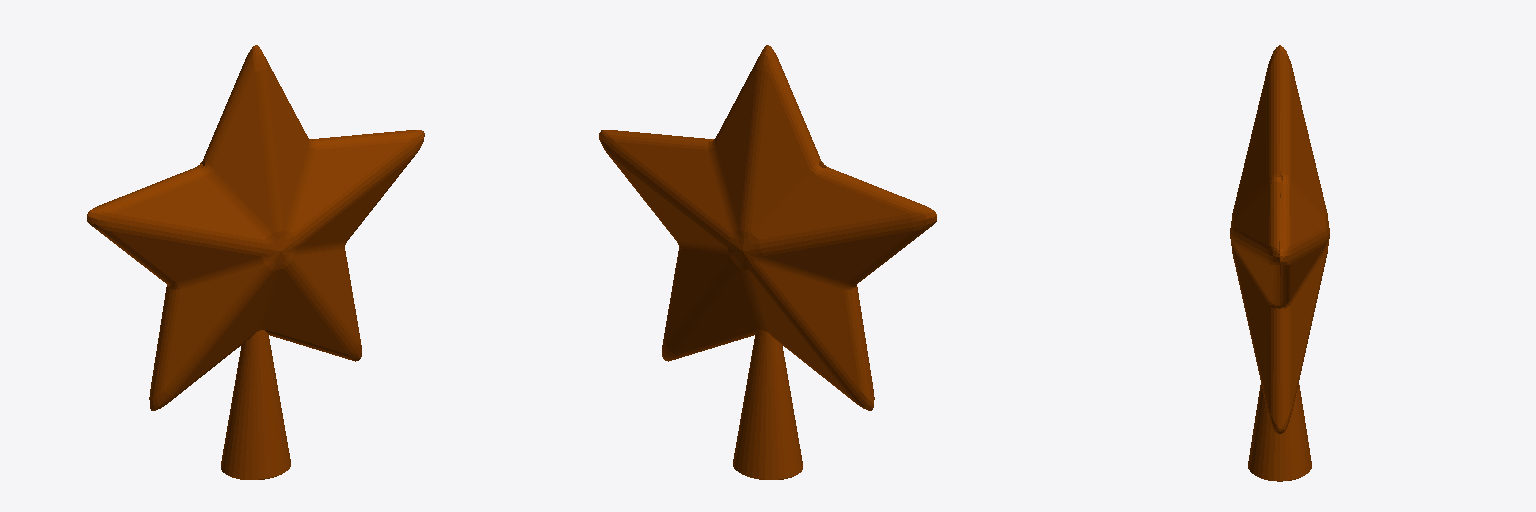
The model's file is ChristmasStar.obj.
3 views of the same model, side by side, from view 1: azimuth 30°, elevation 25°; view 2: azimuth 150°, elevation 25°; view 3: azimuth 270°, elevation 25° (orthographic).
Visible parts, largest first — view 1: Star; view 2: Star; view 3: Star.
Boxes of the visible parts, <box> form: Star: <box>87,45,424,479</box>; Star: <box>599,45,936,479</box>; Star: <box>1230,45,1329,481</box>.
Bounding box in the file's own units: 1.89 × 2.26 × 0.4884.